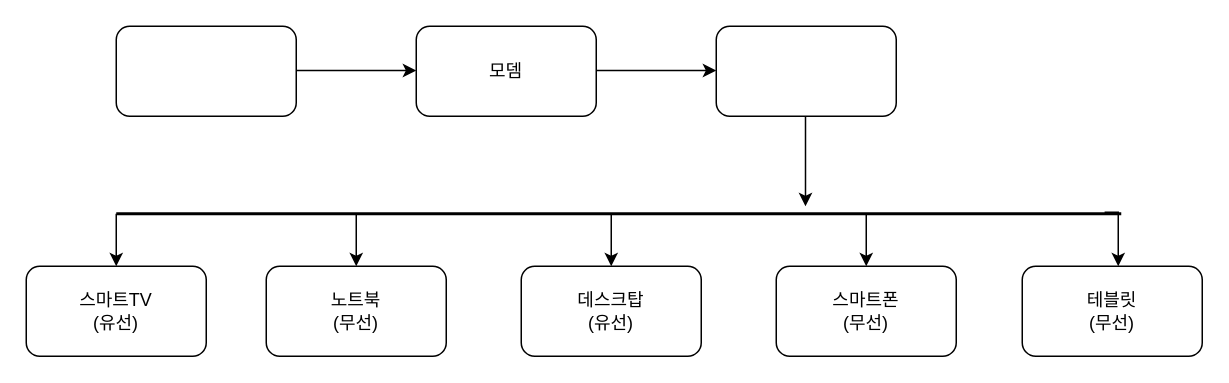
The diagram is 1229 pixels wide and 383 high, and some of its shapes have lost their labels. Each missing label, with the centre of its shape:
"공유기" belongs at point (805, 70).
"인터넷 회선" belongs at point (205, 70).
